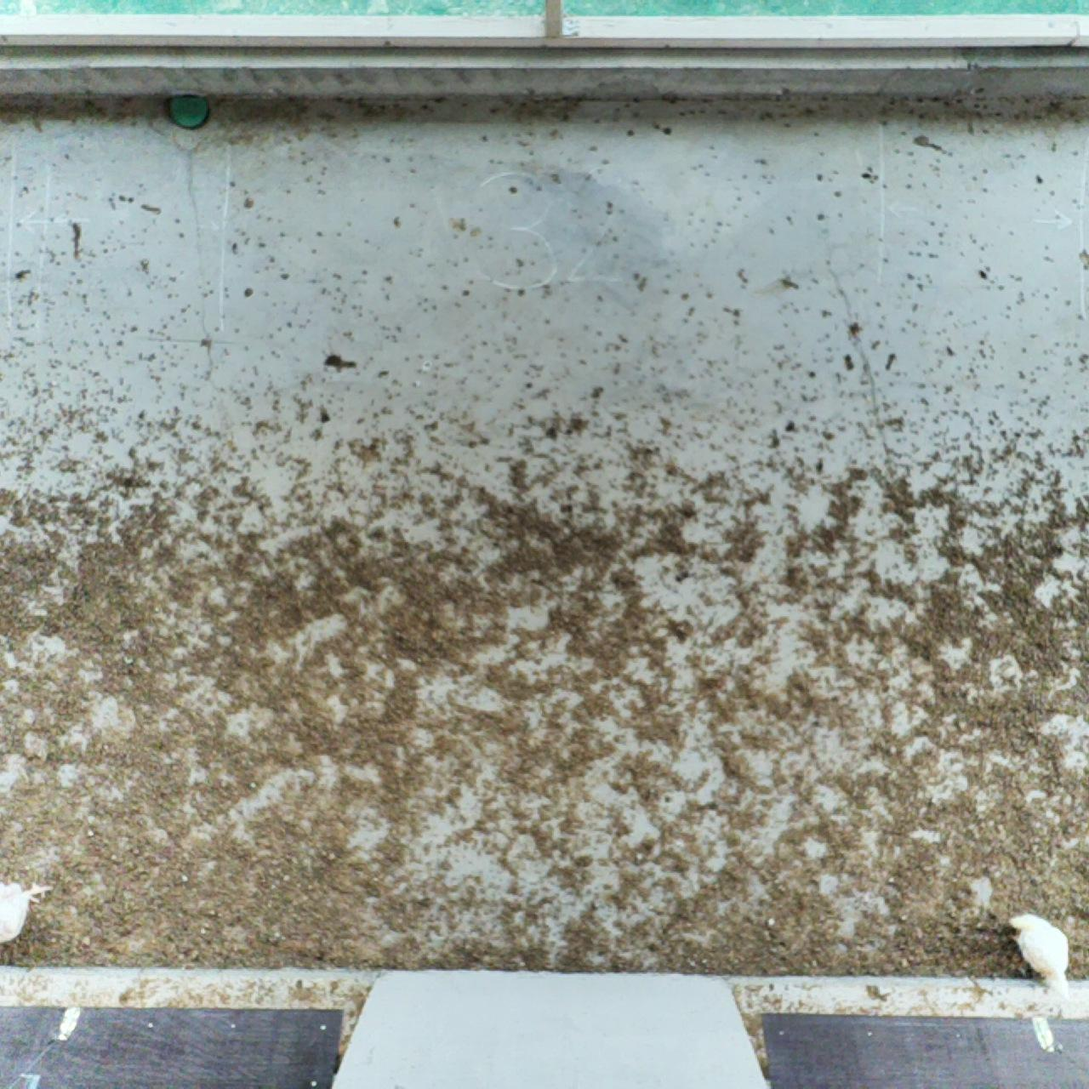chicken: (1003, 908, 1079, 997), (0, 873, 58, 961)
